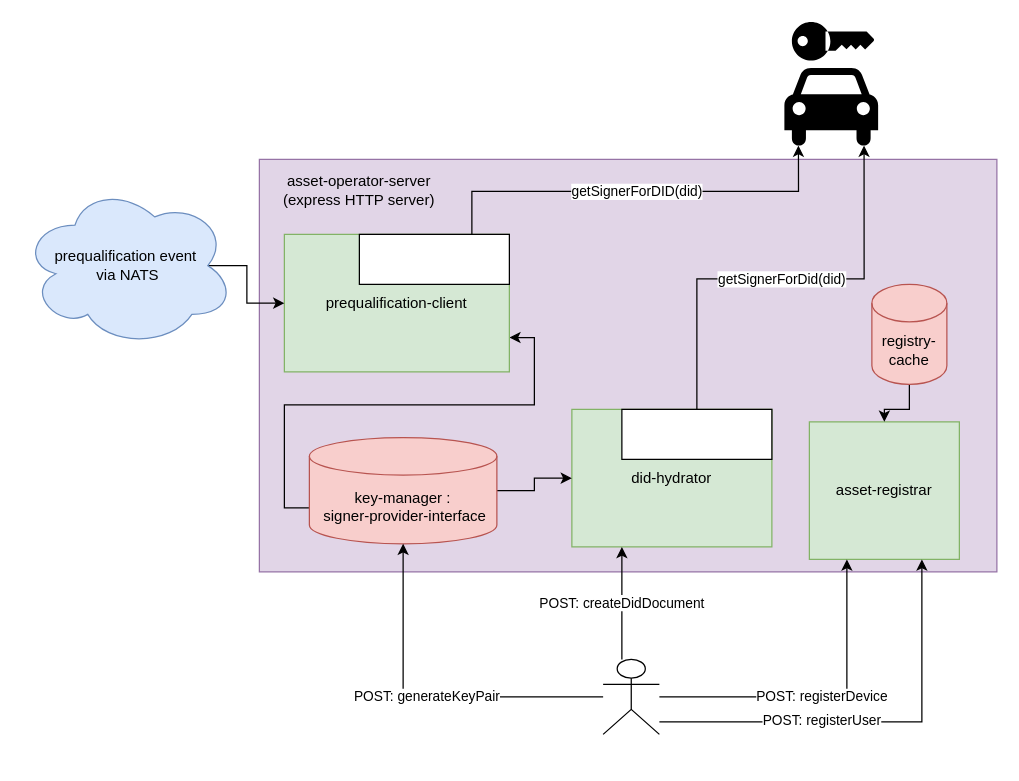
This 1019x781 diagram has some shape labels left out. Here are the shapes that lost their labels. From the top down, the centre of each, then its label:
At (x=433, y=258): "VehicleClient: signer-provider-interface".
At (x=696, y=433): "VehicleClient : signer-provider-interface".
At (x=630, y=696): "CPO/OEM/EMSP".
